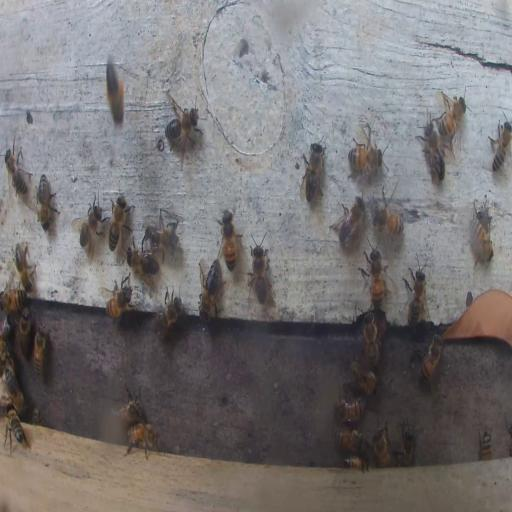nonpollenbee: (74, 192, 108, 258), (417, 111, 447, 185), (163, 100, 200, 158), (405, 255, 428, 333), (146, 210, 181, 259), (300, 139, 327, 202), (334, 196, 367, 247), (247, 233, 270, 302), (470, 198, 493, 267), (4, 144, 32, 200), (196, 261, 222, 320), (439, 90, 467, 144), (346, 138, 388, 173), (371, 190, 404, 234), (488, 114, 512, 172), (154, 286, 184, 332), (124, 421, 161, 458), (36, 172, 59, 231), (417, 334, 444, 384), (112, 386, 144, 428), (108, 194, 131, 252), (364, 244, 384, 309), (104, 280, 133, 320), (3, 410, 28, 456), (348, 358, 378, 394), (397, 417, 417, 468), (15, 242, 35, 291), (332, 428, 368, 454), (128, 244, 158, 275), (3, 368, 24, 412), (333, 395, 365, 423), (222, 209, 236, 272), (364, 310, 380, 364), (373, 424, 392, 468), (0, 284, 28, 313), (18, 304, 31, 360), (34, 323, 47, 376), (479, 430, 493, 460), (0, 340, 14, 368), (343, 454, 369, 468), (0, 317, 11, 341), (30, 407, 42, 426)
pollenbee: (103, 53, 127, 128)
